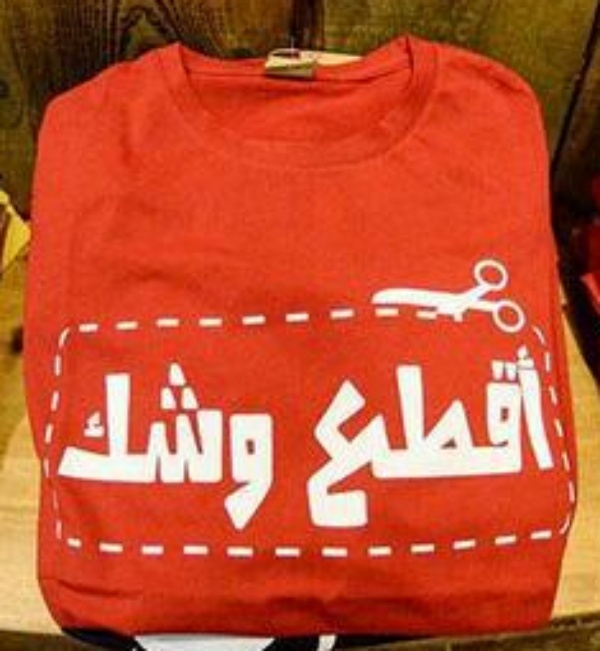text: (305, 343, 320, 532), (321, 343, 336, 532), (337, 343, 352, 532), (353, 343, 368, 532), (369, 343, 384, 532), (385, 343, 400, 532), (401, 343, 416, 532), (417, 343, 432, 532), (433, 343, 448, 532), (449, 343, 464, 532), (465, 343, 480, 532), (481, 343, 496, 532), (497, 343, 512, 532), (513, 343, 528, 532), (529, 343, 544, 532), (65, 360, 80, 534), (81, 360, 96, 534), (97, 360, 112, 534), (113, 360, 128, 534), (129, 360, 144, 534), (145, 360, 160, 534), (161, 360, 176, 534), (177, 360, 192, 534), (193, 360, 208, 534), (209, 360, 224, 534), (225, 360, 240, 534), (241, 360, 256, 534), (257, 360, 272, 534), (545, 343, 555, 532), (57, 360, 64, 534), (273, 360, 276, 534), (302, 343, 304, 532)
